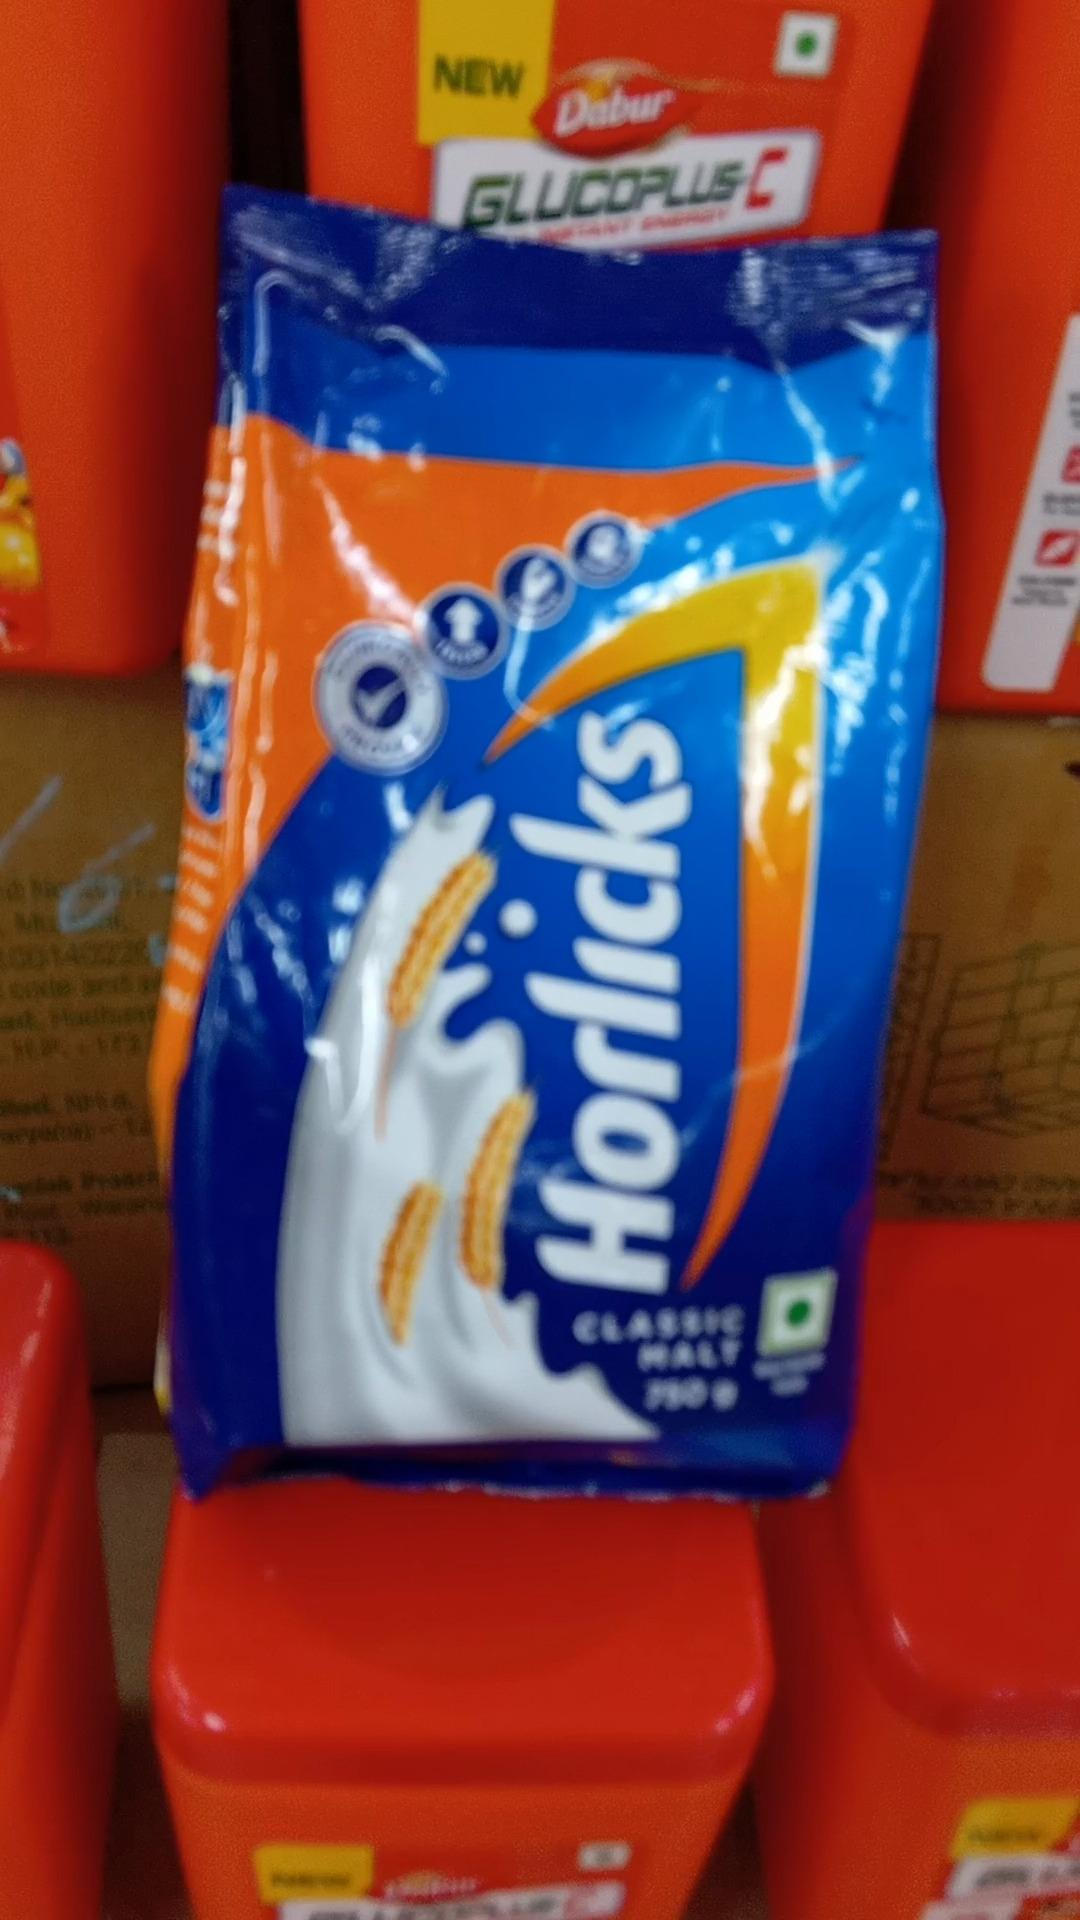HORLICK_CLASSIC_MALT_750_G_POUCH: (202, 187, 869, 1491)
